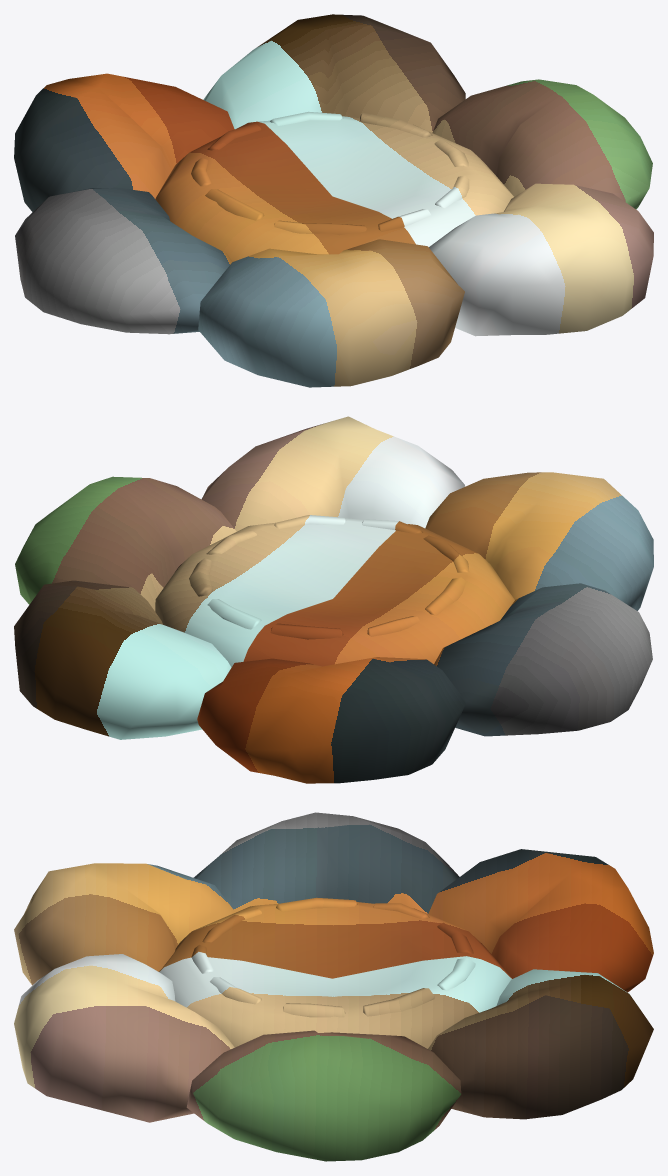
File: CharSkyKid_Prop_SunflowerPillow.glb
3 views of the same model, one above another, from view 1: azimuth 30°, elevation 25°; view 2: azimuth 150°, elevation 25°; view 3: azimuth 270°, elevation 25° (orthographic).
Parts seen in each view (by area): view 1: CharSkyKid_Prop_SunflowerPillow; view 2: CharSkyKid_Prop_SunflowerPillow; view 3: CharSkyKid_Prop_SunflowerPillow.
Boxes of the visible parts, box(x1,y1,x2,y2) form: CharSkyKid_Prop_SunflowerPillow: box(14, 14, 653, 387); CharSkyKid_Prop_SunflowerPillow: box(14, 416, 653, 783); CharSkyKid_Prop_SunflowerPillow: box(14, 812, 653, 1161).
Size of the model in its own units: 0.8165 by 0.1477 by 0.7706.
Materials: 1 (1 with a texture image).
